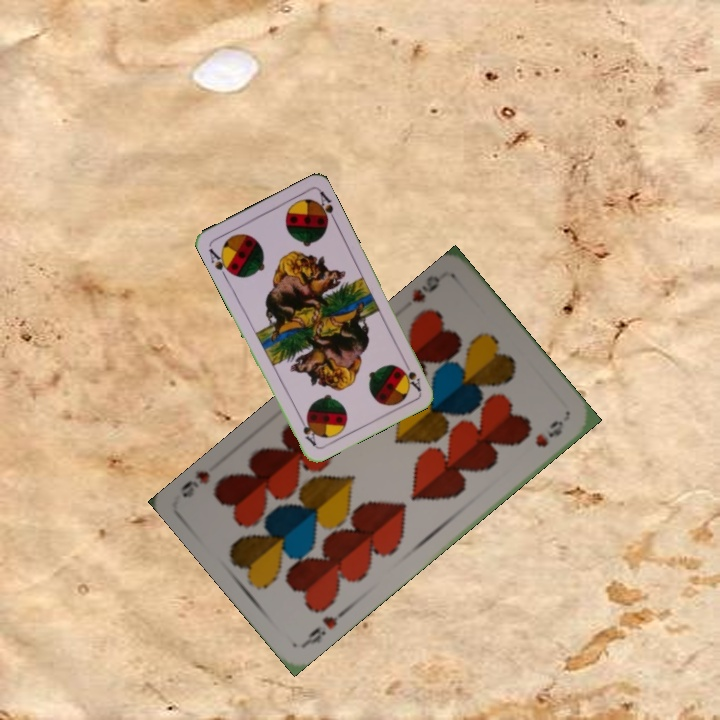H9: (299, 605, 349, 649), (408, 271, 443, 306)
SA: (205, 244, 235, 281), (397, 356, 424, 394)
